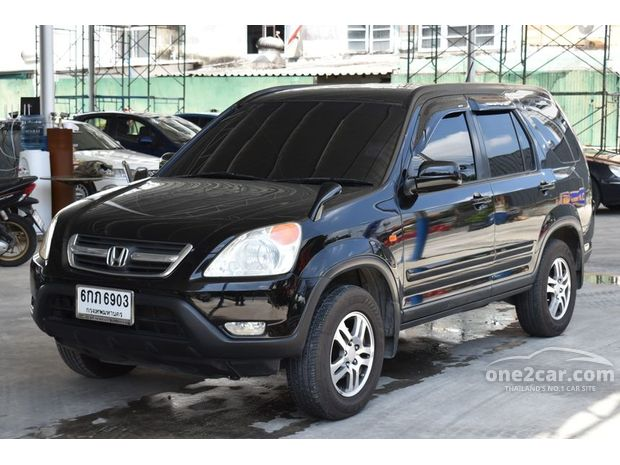pickup: (28, 79, 594, 419)
